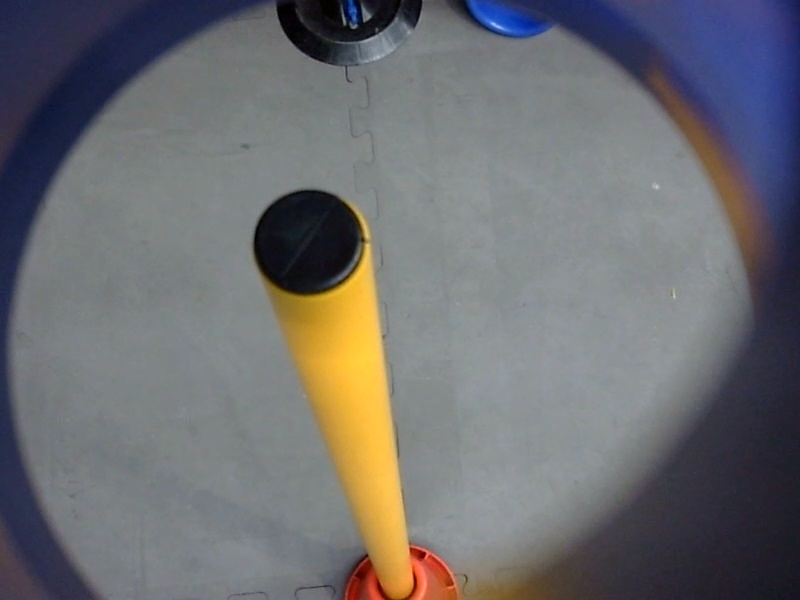tip: (238, 177, 380, 311)
